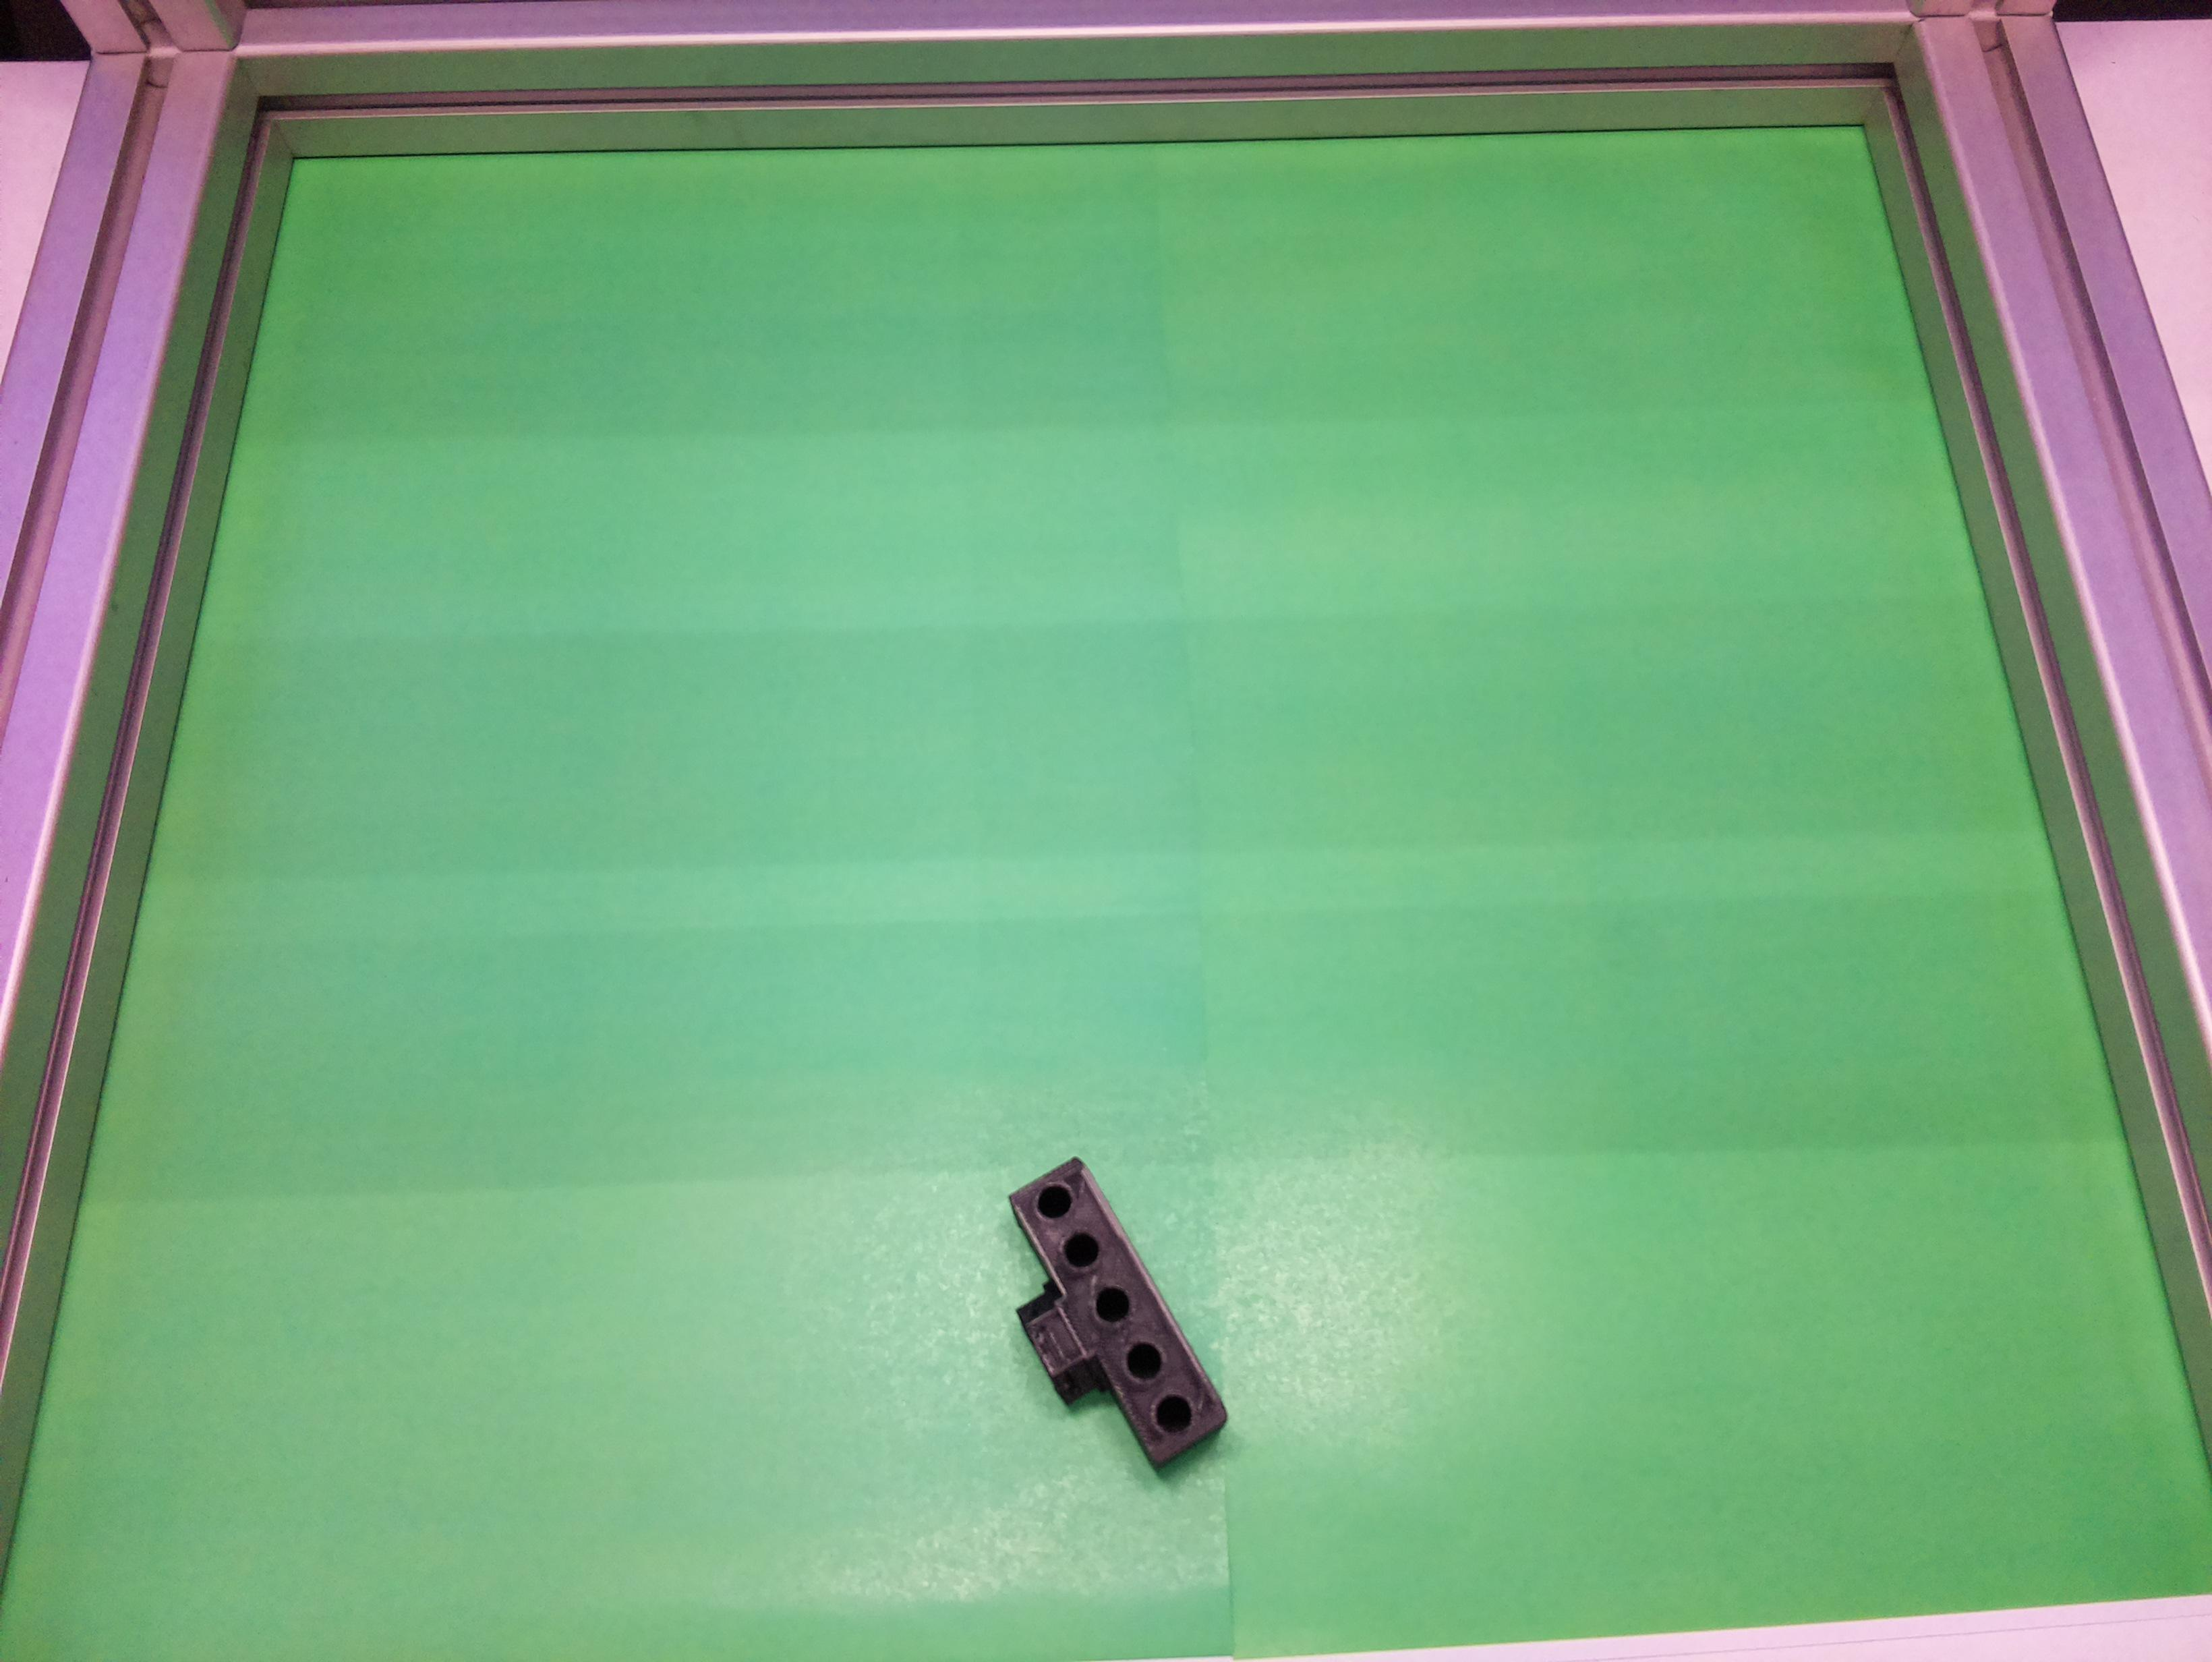bit_holder: (958, 1154, 1236, 1496)
